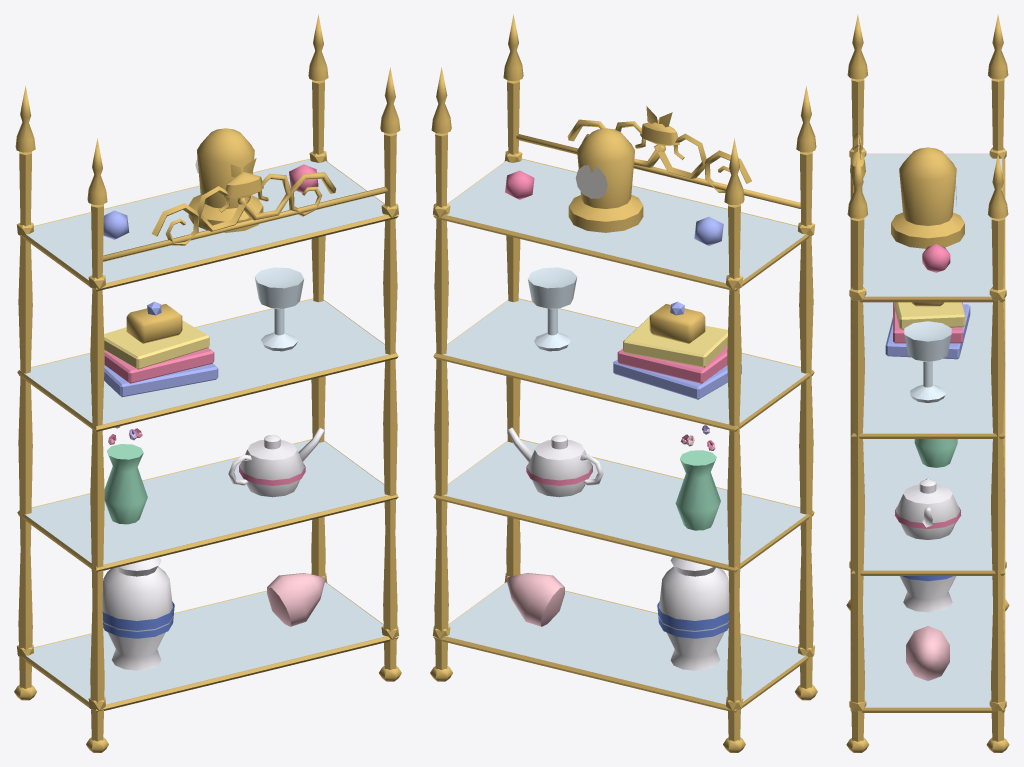
Rendered from etagere_gilt.glb.
3 renders of one model, left to right at view 1: azimuth 30°, elevation 25°; view 2: azimuth 150°, elevation 25°; view 3: azimuth 270°, elevation 25°, orthographic. The views are drawn at different scales.
Parts seen in each view (by area): view 1: etagere_gilt; view 2: etagere_gilt; view 3: etagere_gilt.
Part boxes in pixels (box(x1,y1,x2,y2)): etagere_gilt: box(14, 14, 401, 752); etagere_gilt: box(430, 14, 817, 752); etagere_gilt: box(846, 14, 1009, 752).
Size of what is drawn, in the model's own units: 0.9 by 1.7 by 0.42.
